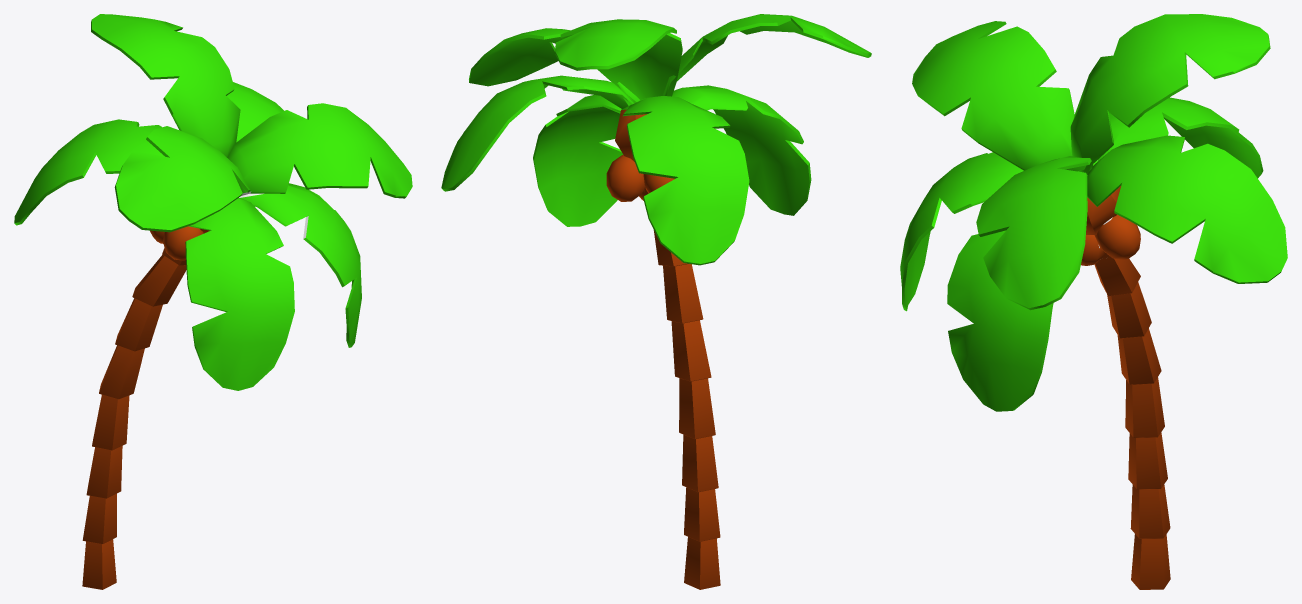
The model's file is tree color.fbx.
3 views of the same model, side by side, from view 1: azimuth 30°, elevation 25°; view 2: azimuth 150°, elevation 25°; view 3: azimuth 270°, elevation 25° (orthographic). The views are drawn at different scales.
Parts seen in each view (by area): view 1: Zone_4_Object_2_A_001; view 2: Zone_4_Object_2_A_001; view 3: Zone_4_Object_2_A_001.
Boxes of the visible parts, box(x1,y1,x2,y2) form: Zone_4_Object_2_A_001: box(14, 14, 412, 589); Zone_4_Object_2_A_001: box(441, 14, 871, 589); Zone_4_Object_2_A_001: box(900, 14, 1287, 589).
Bounding box in the file's own units: 425 × 640 × 383.
